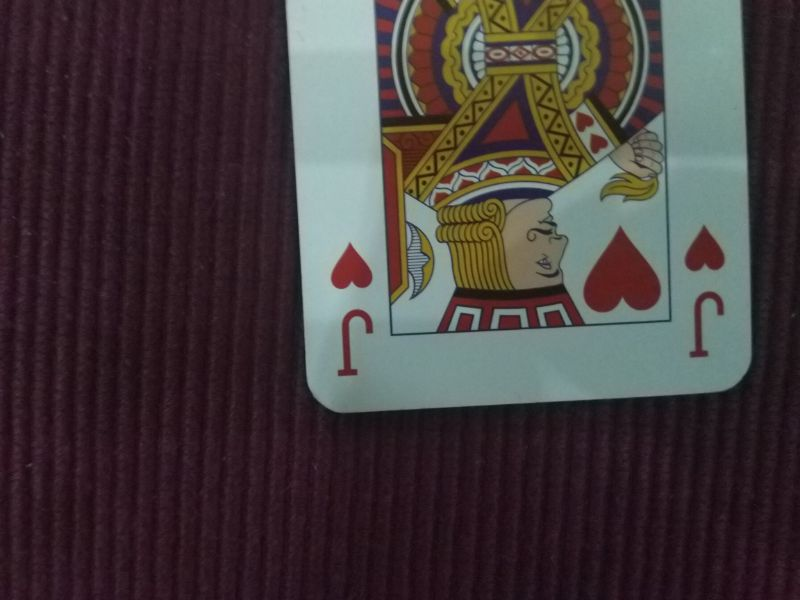Jh: (320, 236, 385, 384), (675, 216, 739, 366)
